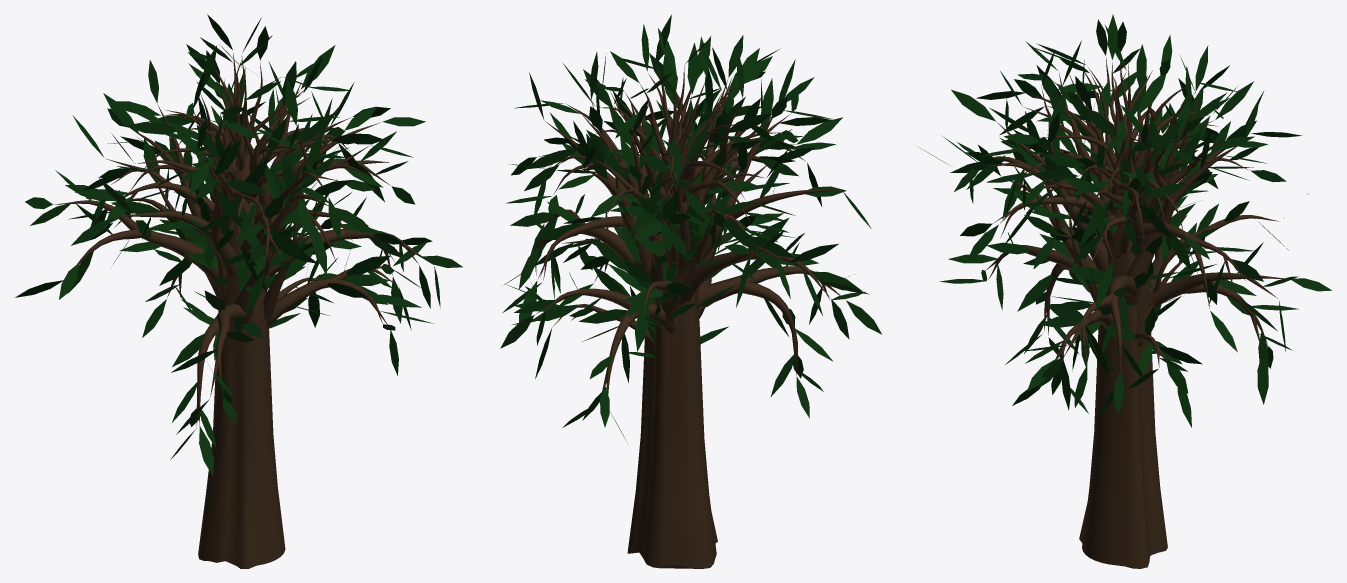
File: PohonBesar.fbx
3 views of the same model, side by side, from view 1: azimuth 30°, elevation 25°; view 2: azimuth 150°, elevation 25°; view 3: azimuth 270°, elevation 25° (orthographic).
Parts seen in each view (by area): view 1: leaves, Cylinder; view 2: leaves, Cylinder; view 3: leaves, Cylinder.
Part boxes in pixels (left/top/right/bottom): leaves: left=15, top=14, right=462, bottom=476; Cylinder: left=54, top=53, right=431, bottom=568; leaves: left=500, top=14, right=881, bottom=444; Cylinder: left=535, top=65, right=844, bottom=568; leaves: left=919, top=14, right=1331, bottom=427; Cylinder: left=983, top=58, right=1284, bottom=568.
Size of the model in its own units: 1467 by 1903 by 1363.
